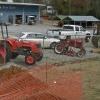Tractor: (5, 23, 54, 81)
